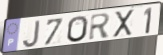1: (143, 7, 153, 35)
7: (45, 17, 66, 47)
J: (22, 19, 41, 49)
O: (66, 15, 89, 44)
R: (88, 12, 112, 42)
X: (113, 9, 135, 39)
